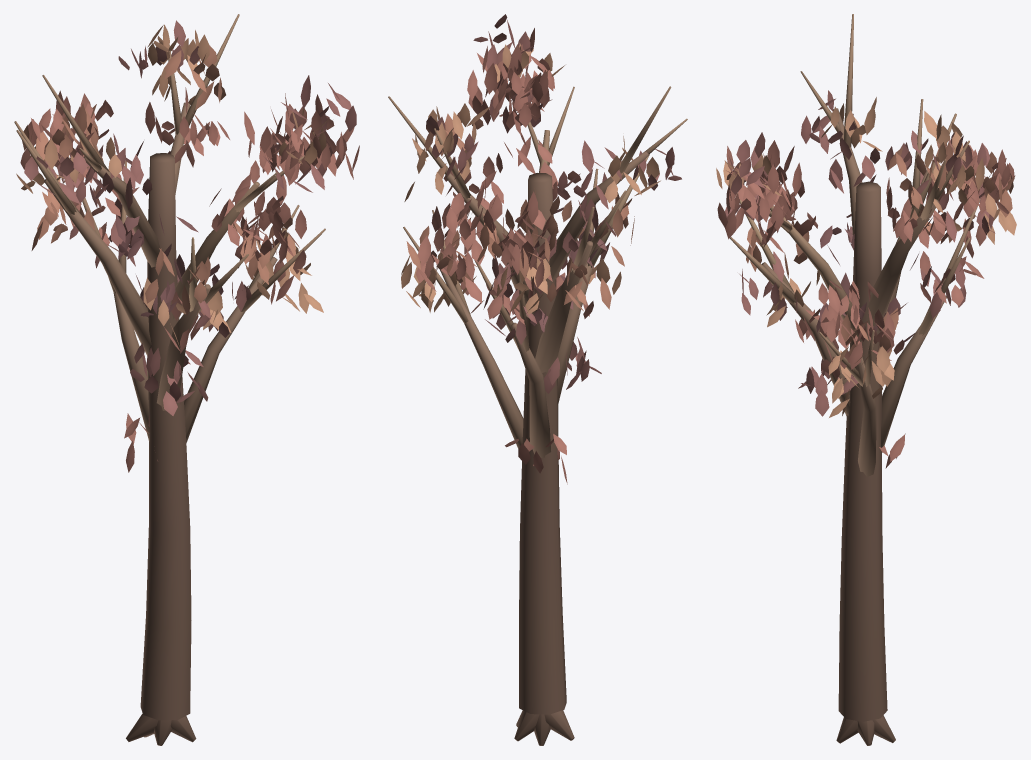
Rendered from tree_3d_02_red.glb.
3 views of the same model, side by side, from view 1: azimuth 30°, elevation 25°; view 2: azimuth 150°, elevation 25°; view 3: azimuth 270°, elevation 25° (orthographic). The views are drawn at different scales.
Parts seen in each view (by area): view 1: tree_3d_02_red_wood, tree_3d_02_red_foliage; view 2: tree_3d_02_red_foliage, tree_3d_02_red_wood; view 3: tree_3d_02_red_foliage, tree_3d_02_red_wood.
Boxes of the visible parts, x1=… form: tree_3d_02_red_wood: x1=14, y1=14, x2=325, y2=745; tree_3d_02_red_foliage: x1=16, y1=20, x2=359, y2=472; tree_3d_02_red_foliage: x1=401, y1=14, x2=681, y2=484; tree_3d_02_red_wood: x1=388, y1=86, x2=687, y2=745; tree_3d_02_red_foliage: x1=716, y1=90, x2=1016, y2=468; tree_3d_02_red_wood: x1=730, y1=14, x2=980, y2=745.
Size of the model in its own units: 5.01 by 12.45 by 5.07.
